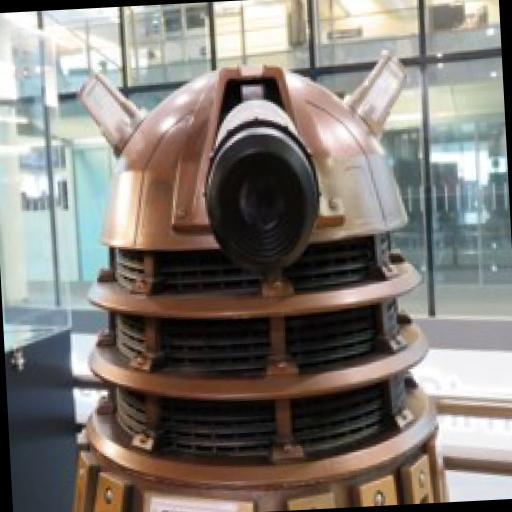dalek: (31, 51, 462, 512)
